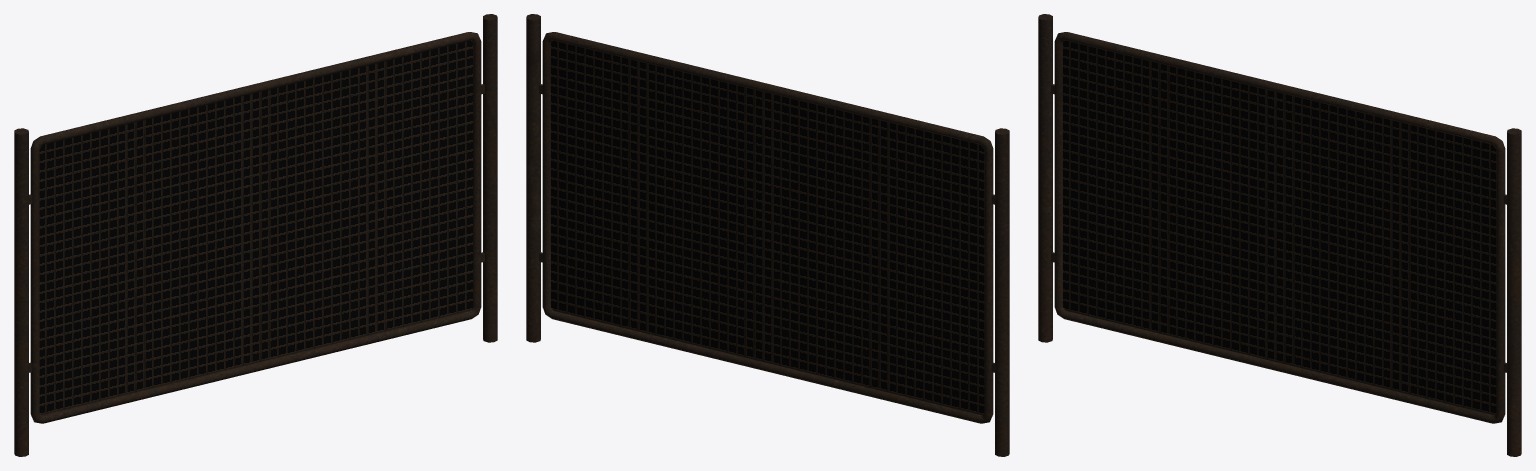
Rendered from fence_e_1.obj.
The picture shows the model from 3 angles, left to right: view 1: azimuth 30°, elevation 25°; view 2: azimuth 150°, elevation 25°; view 3: azimuth 330°, elevation 25°; orthographic projection.
Parts seen in each view (by area): view 1: fence_e_1; view 2: fence_e_1; view 3: fence_e_1.
Part boxes in pixels (bbox=[...]): fence_e_1: bbox=[14, 14, 497, 456]; fence_e_1: bbox=[526, 14, 1009, 456]; fence_e_1: bbox=[1038, 14, 1521, 456].
Bounding box in the file's own units: 3.6 × 2.3 × 0.1.
